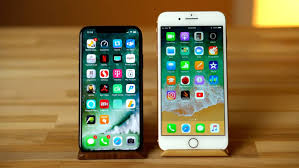iphone: (152, 8, 230, 154), (72, 23, 147, 159)
iphone7: (153, 8, 231, 154)
